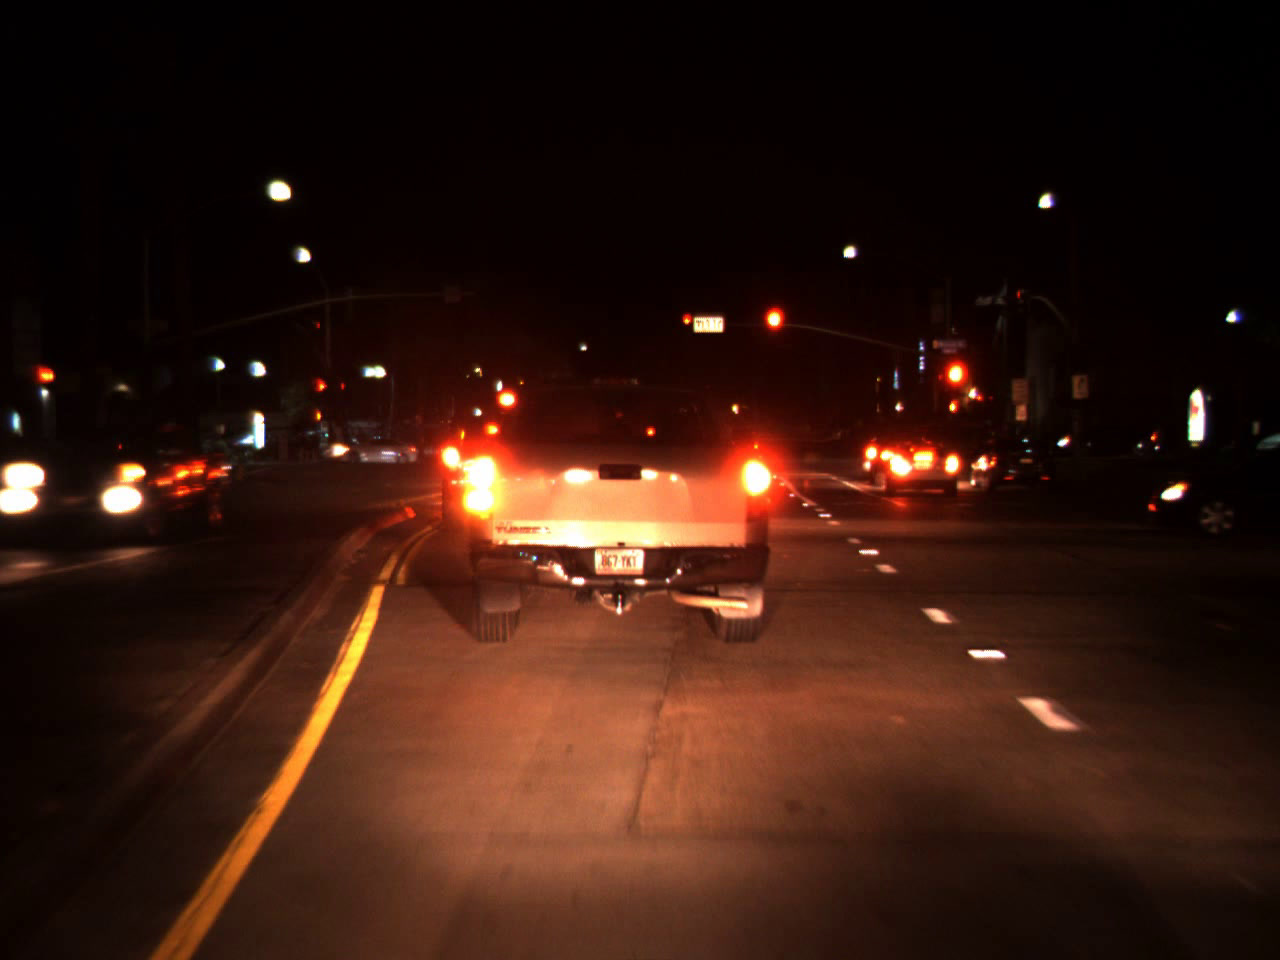stop: (940, 356, 973, 419), (761, 302, 788, 361), (316, 378, 328, 402), (682, 313, 692, 331)
